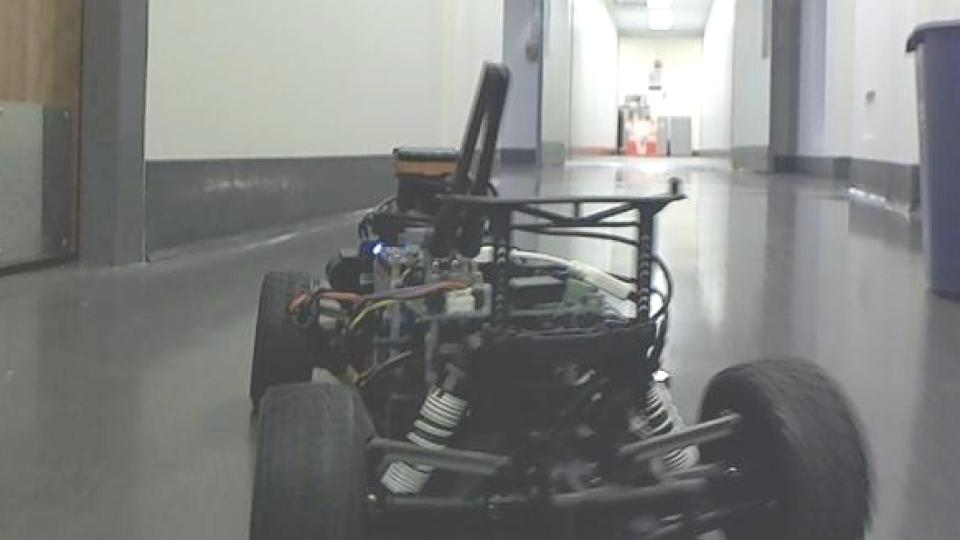car: (244, 58, 879, 540)
